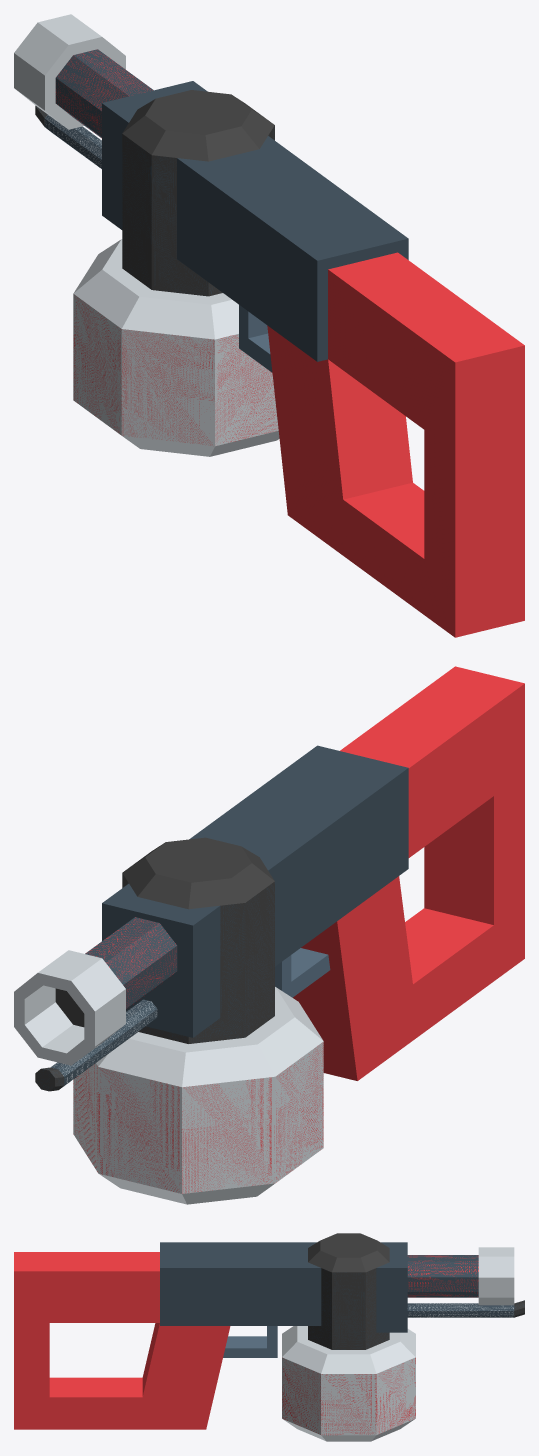
The model's file is flamethrower_short.dae.
3 views of the same model, one above another, from view 1: azimuth 30°, elevation 25°; view 2: azimuth 150°, elevation 25°; view 3: azimuth 270°, elevation 25° (orthographic). The views are drawn at different scales.
Visible parts, largest first — view 1: Group (×2); view 2: Group (×2); view 3: Group (×2).
Boxes of the visible parts, x1,y1,x2,y2 form: Group (×2): [14, 14, 524, 637]; Group (×2): [14, 666, 524, 1204]; Group (×2): [14, 1233, 524, 1441].
Size of the model in its own units: 0.1441 by 0.2067 by 0.5494.
